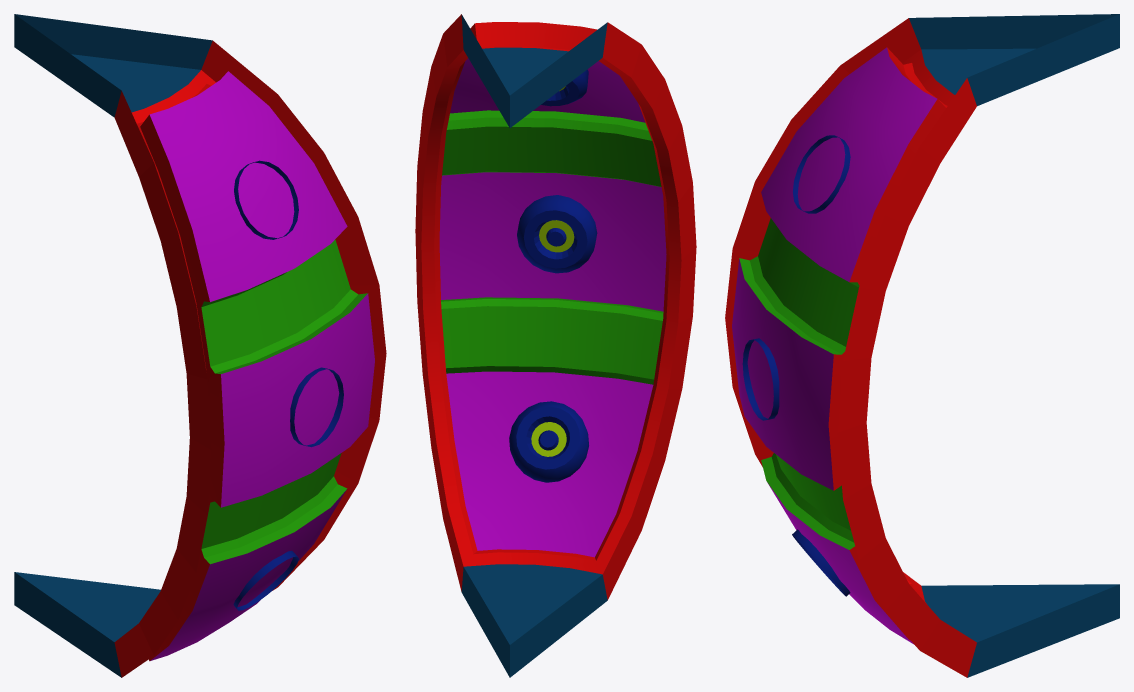
File: OBJ_Salle_IA.fbx
3 renders of one model, left to right at view 1: azimuth 30°, elevation 25°; view 2: azimuth 150°, elevation 25°; view 3: azimuth 270°, elevation 25°, orthographic. The views are drawn at different scales.
Visible parts, largest first — view 1: OBJ_Salle_IA; view 2: OBJ_Salle_IA; view 3: OBJ_Salle_IA.
Boxes of the visible parts, bbox=[...] form: OBJ_Salle_IA: bbox=[14, 14, 386, 677]; OBJ_Salle_IA: bbox=[415, 14, 696, 677]; OBJ_Salle_IA: bbox=[725, 14, 1119, 677].
Bounding box in the file's own units: 9.99 × 24.12 × 14.28.
